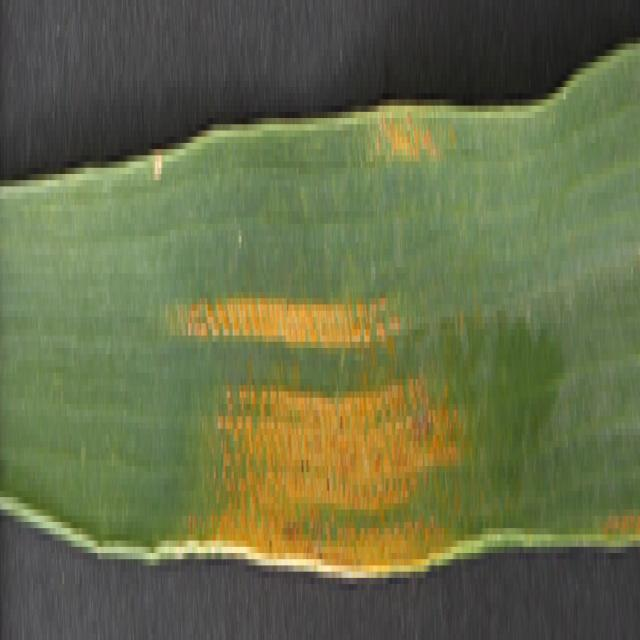leaf rust: (163, 205, 480, 578), (374, 99, 449, 199)
